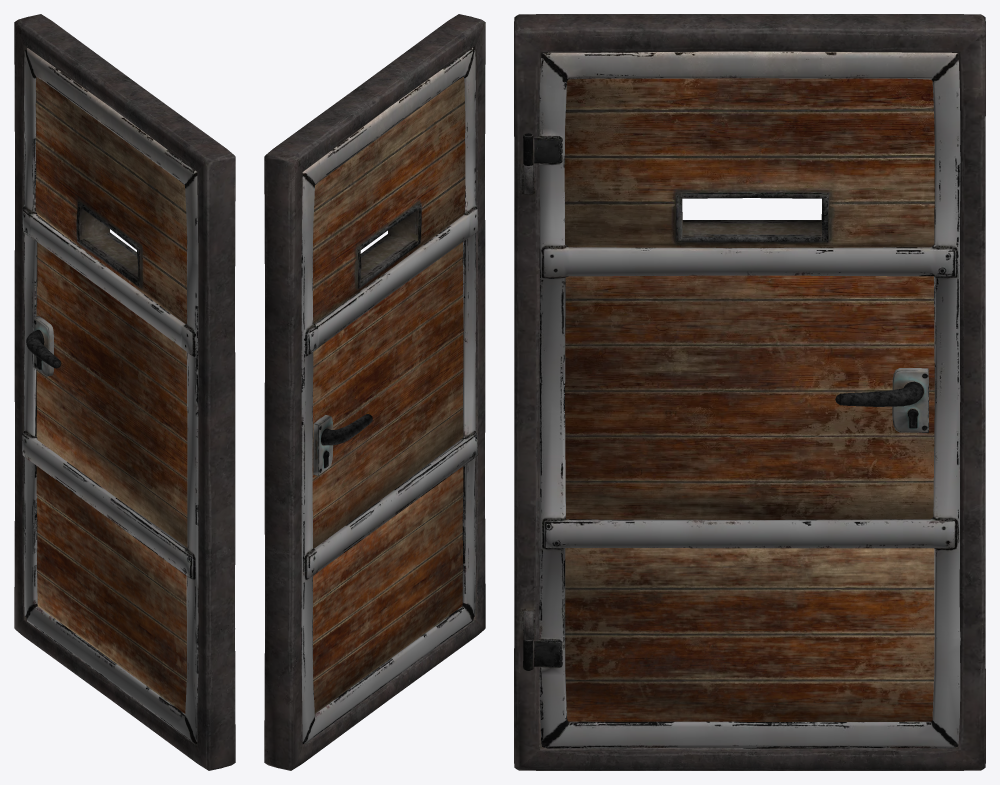
File: door-transformed.glb
3 views of the same model, side by side, from view 1: azimuth 30°, elevation 25°; view 2: azimuth 150°, elevation 25°; view 3: azimuth 270°, elevation 25° (orthographic). The views are drawn at different scales.
Visible parts, largest first — view 1: Object_12, Object_11, Object_9, Object_10, Object_7, Object_13; view 2: Object_12, Object_11, Object_9, Object_10, Object_7, Object_13; view 3: Object_9, Object_11, Object_12, Object_7, Object_10, Object_13.
Part boxes in pixels (bbox=[...]): Object_12: bbox=[14, 14, 235, 770]; Object_11: bbox=[22, 47, 198, 744]; Object_9: bbox=[36, 216, 187, 547]; Object_10: bbox=[35, 77, 186, 323]; Object_7: bbox=[36, 466, 186, 713]; Object_13: bbox=[26, 316, 61, 376]; Object_12: bbox=[264, 14, 485, 770]; Object_11: bbox=[301, 47, 478, 744]; Object_9: bbox=[312, 241, 463, 548]; Object_10: bbox=[313, 77, 465, 323]; Object_7: bbox=[313, 466, 463, 713]; Object_13: bbox=[313, 414, 372, 475]; Object_9: bbox=[565, 275, 934, 519]; Object_11: bbox=[523, 51, 960, 748]; Object_12: bbox=[514, 14, 985, 770]; Object_7: bbox=[565, 548, 934, 721]; Object_10: bbox=[564, 78, 934, 247]; Object_13: bbox=[835, 368, 928, 432].
Bounding box in the file's own units: 0.264 × 2.17 × 1.25.
Materials: 6 (6 with a texture image).
